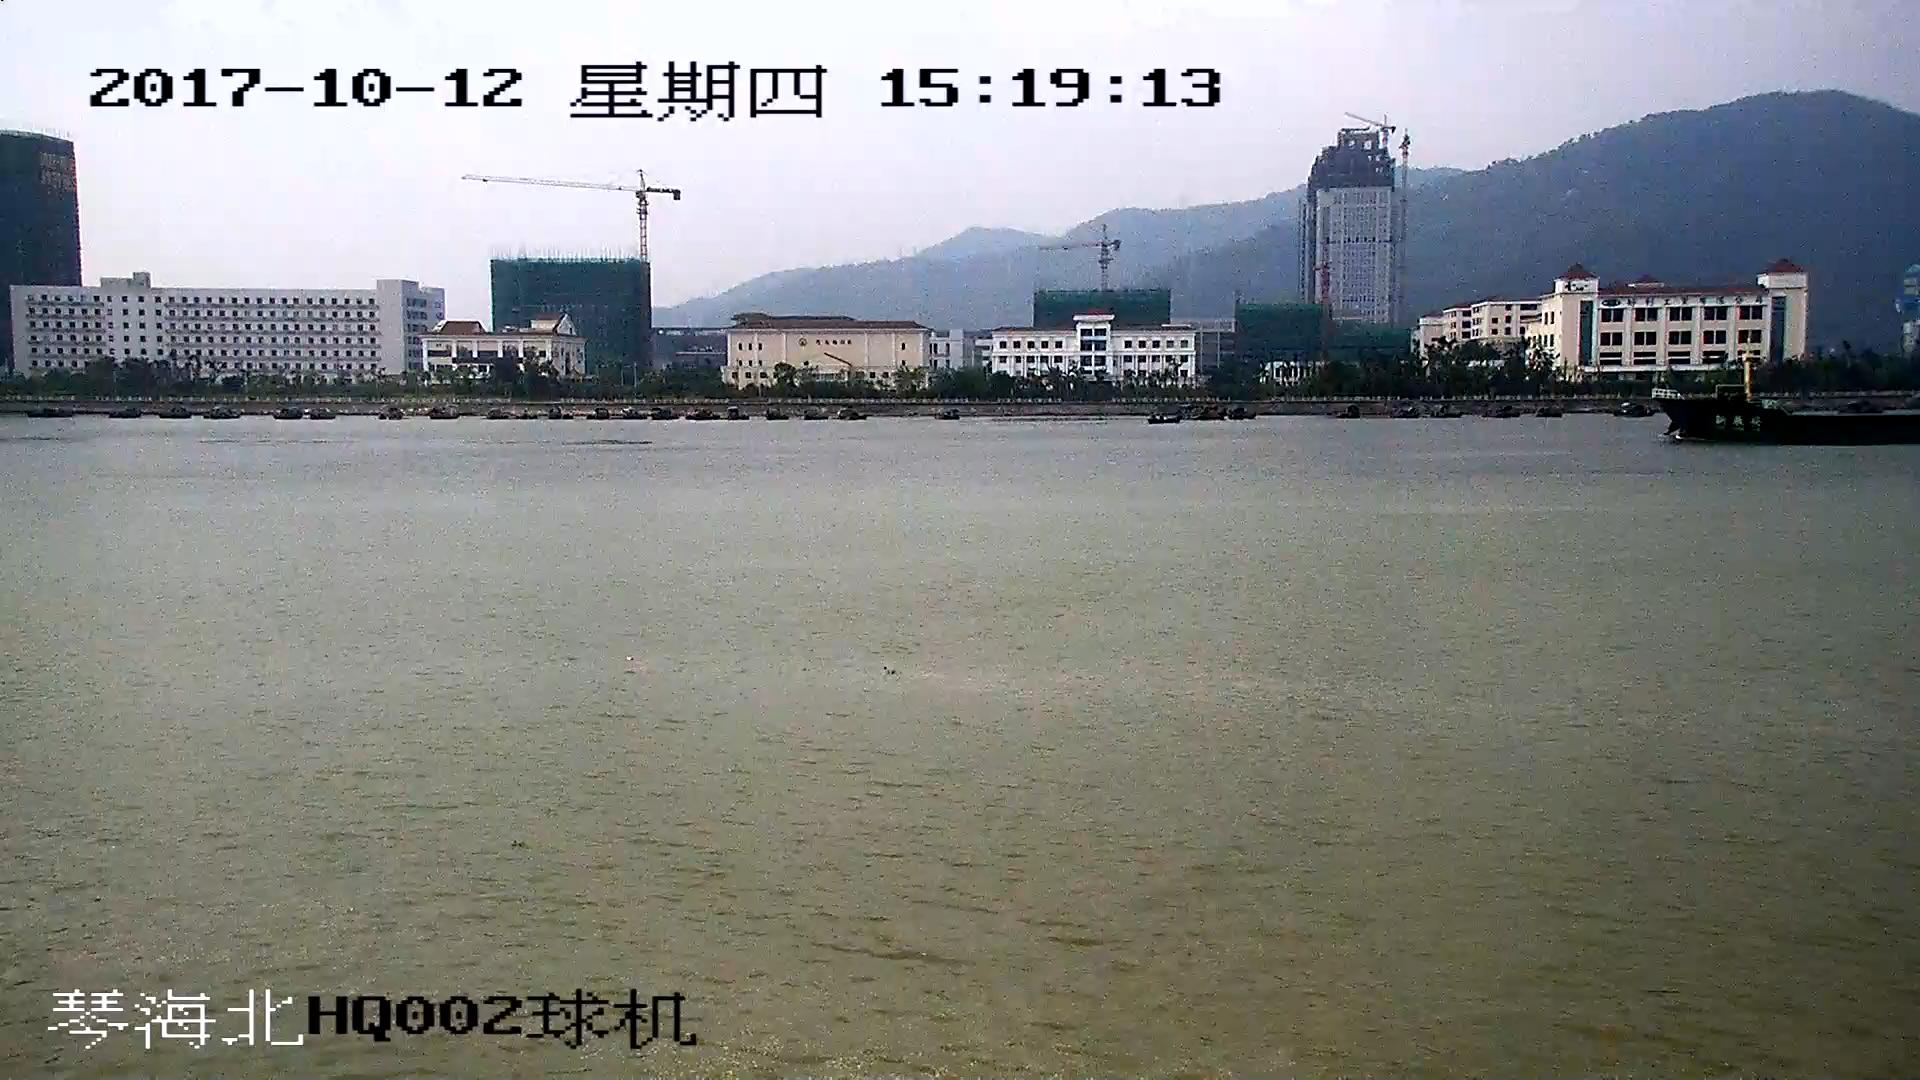general cargo ship: (1646, 381, 1920, 445)
